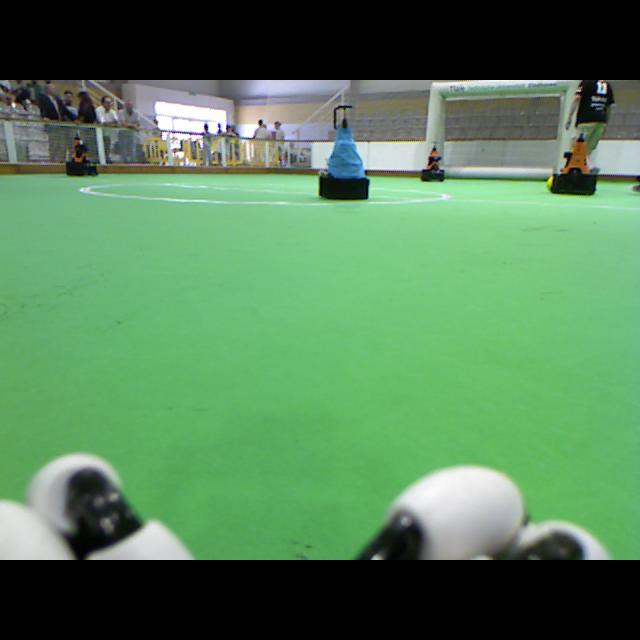ball: (548, 176, 552, 190)
robot: (551, 127, 597, 197), (65, 127, 94, 175), (422, 141, 442, 181)
